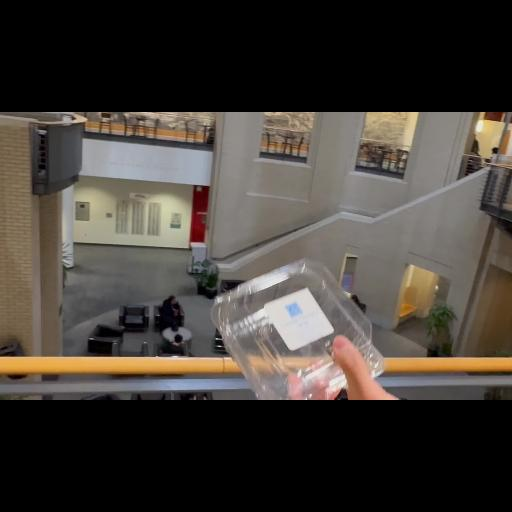small_plastic_container: (202, 254, 406, 400)
